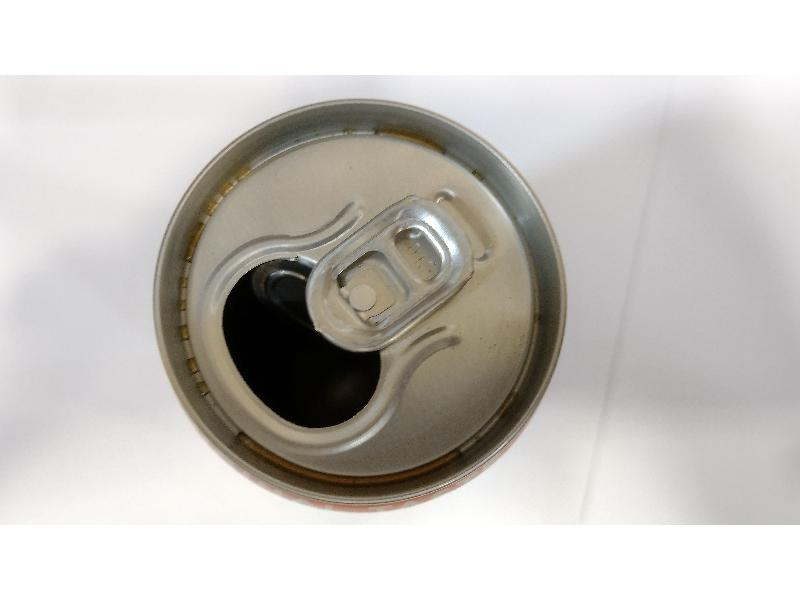can: (156, 101, 564, 508)
